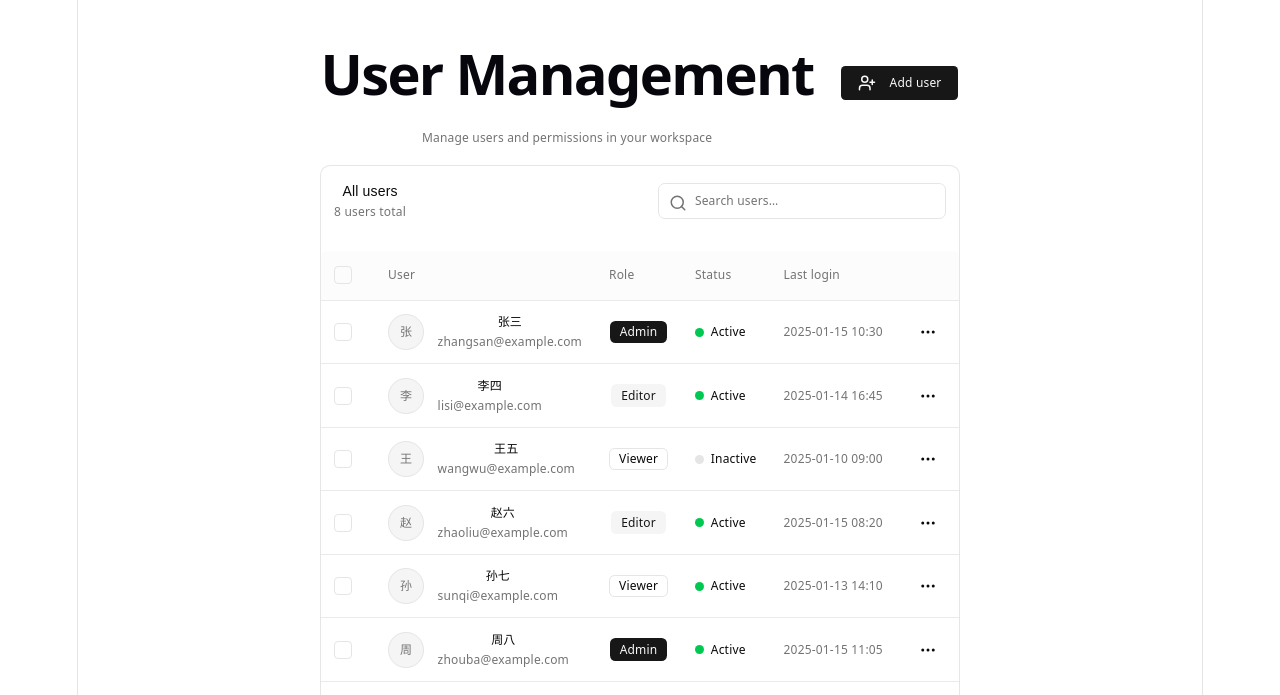
Test: UserListPage i18n › filters users by search input
Type "not-found" into the field with placeholder "Search users…" at (802, 200), box [658, 182, 946, 218]
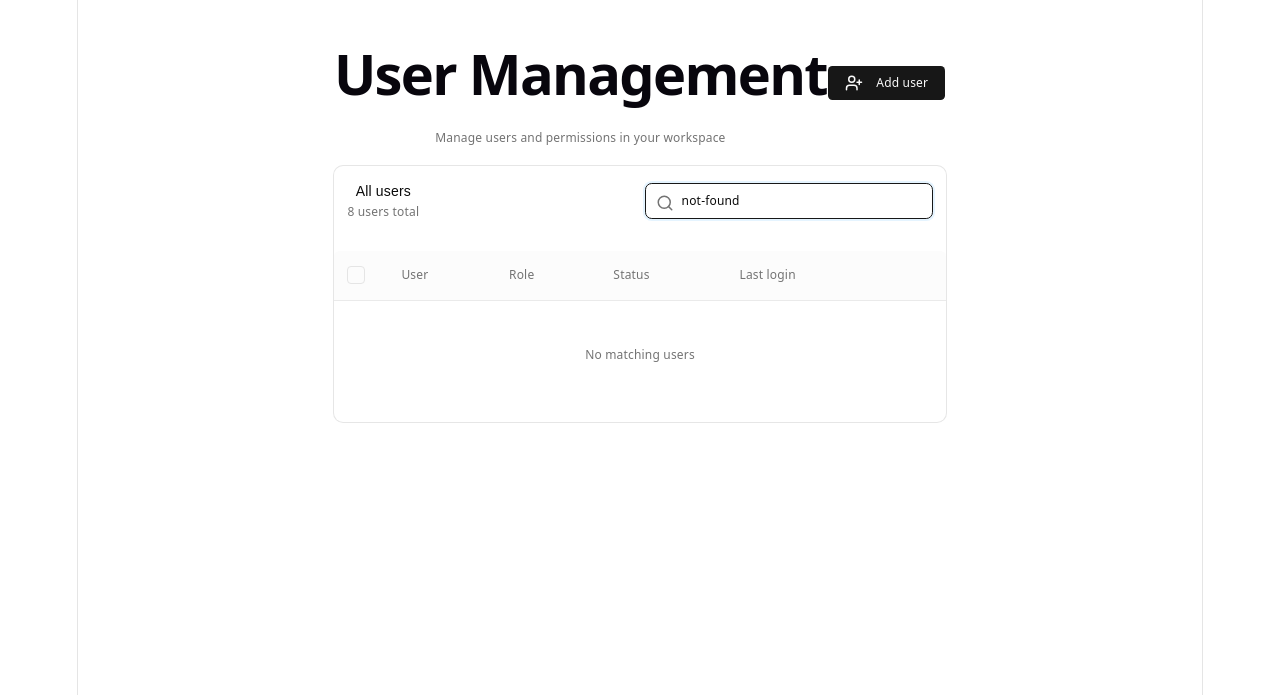
expect the text "No matching users" is shown: met, box [334, 300, 946, 408]
